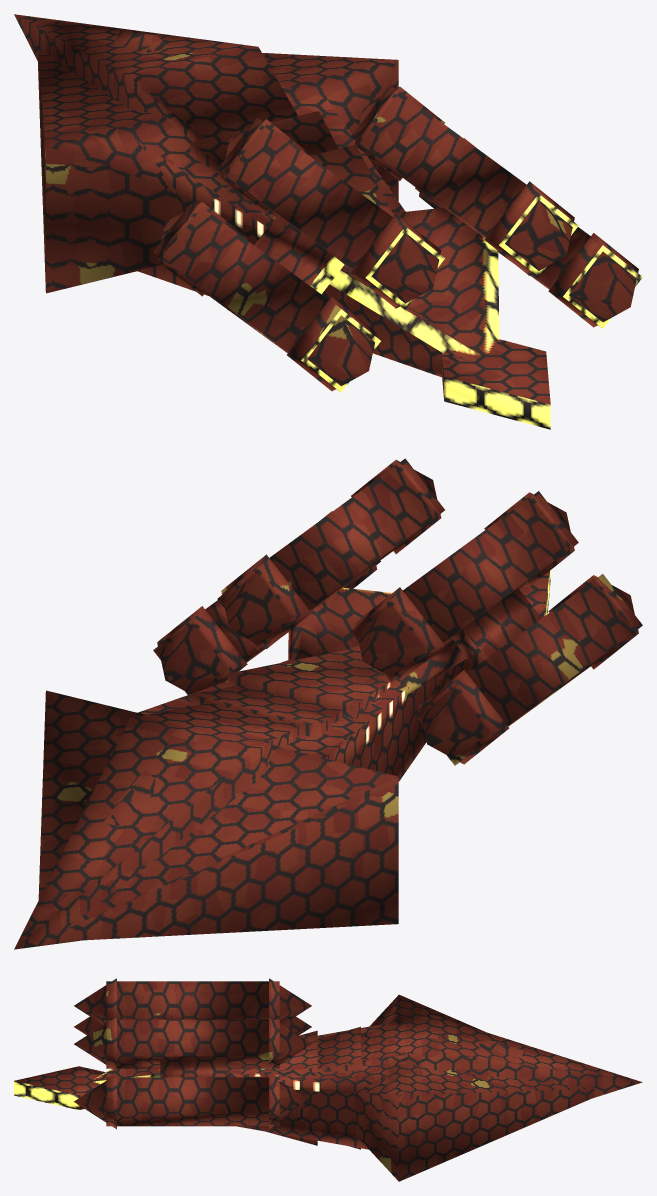
File: zandrax_battleship.glb
3 renders of one model, top to bottom at view 1: azimuth 30°, elevation 25°; view 2: azimuth 150°, elevation 25°; view 3: azimuth 270°, elevation 25°, orthographic. The views are drawn at different scales.
Parts seen in each view (by area): view 1: ZandraxBattleship; view 2: ZandraxBattleship; view 3: ZandraxBattleship.
Boxes of the visible parts, x1=… form: ZandraxBattleship: x1=14, y1=14, x2=642, y2=429; ZandraxBattleship: x1=14, y1=458, x2=642, y2=949; ZandraxBattleship: x1=14, y1=978, x2=642, y2=1181.
Bounding box in the file's own units: 22 × 13.66 × 58.
Materials: 1 (1 with a texture image).
